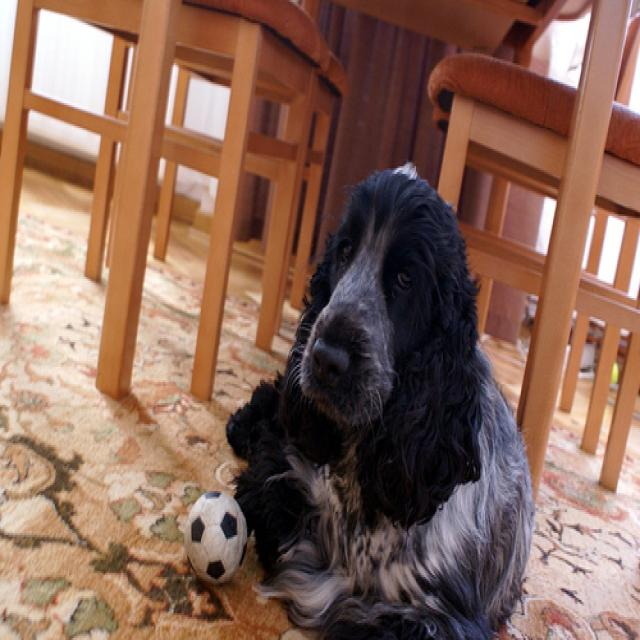dog: (285, 160, 479, 518)
